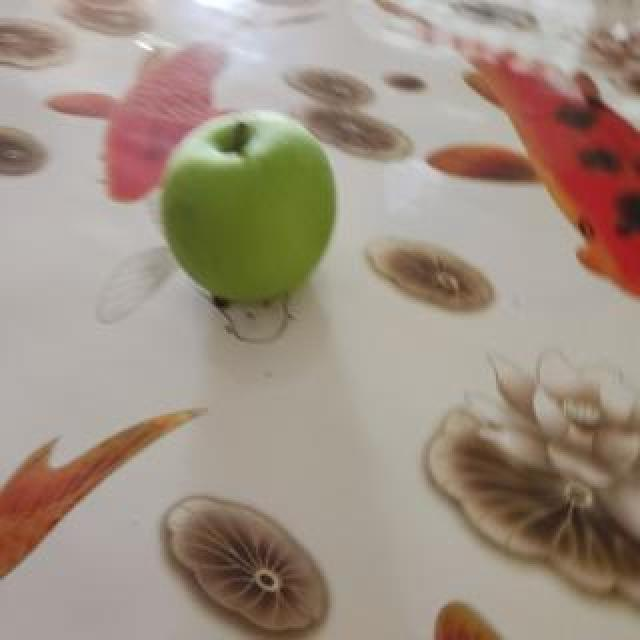Fresh Apple: (148, 108, 338, 310)
